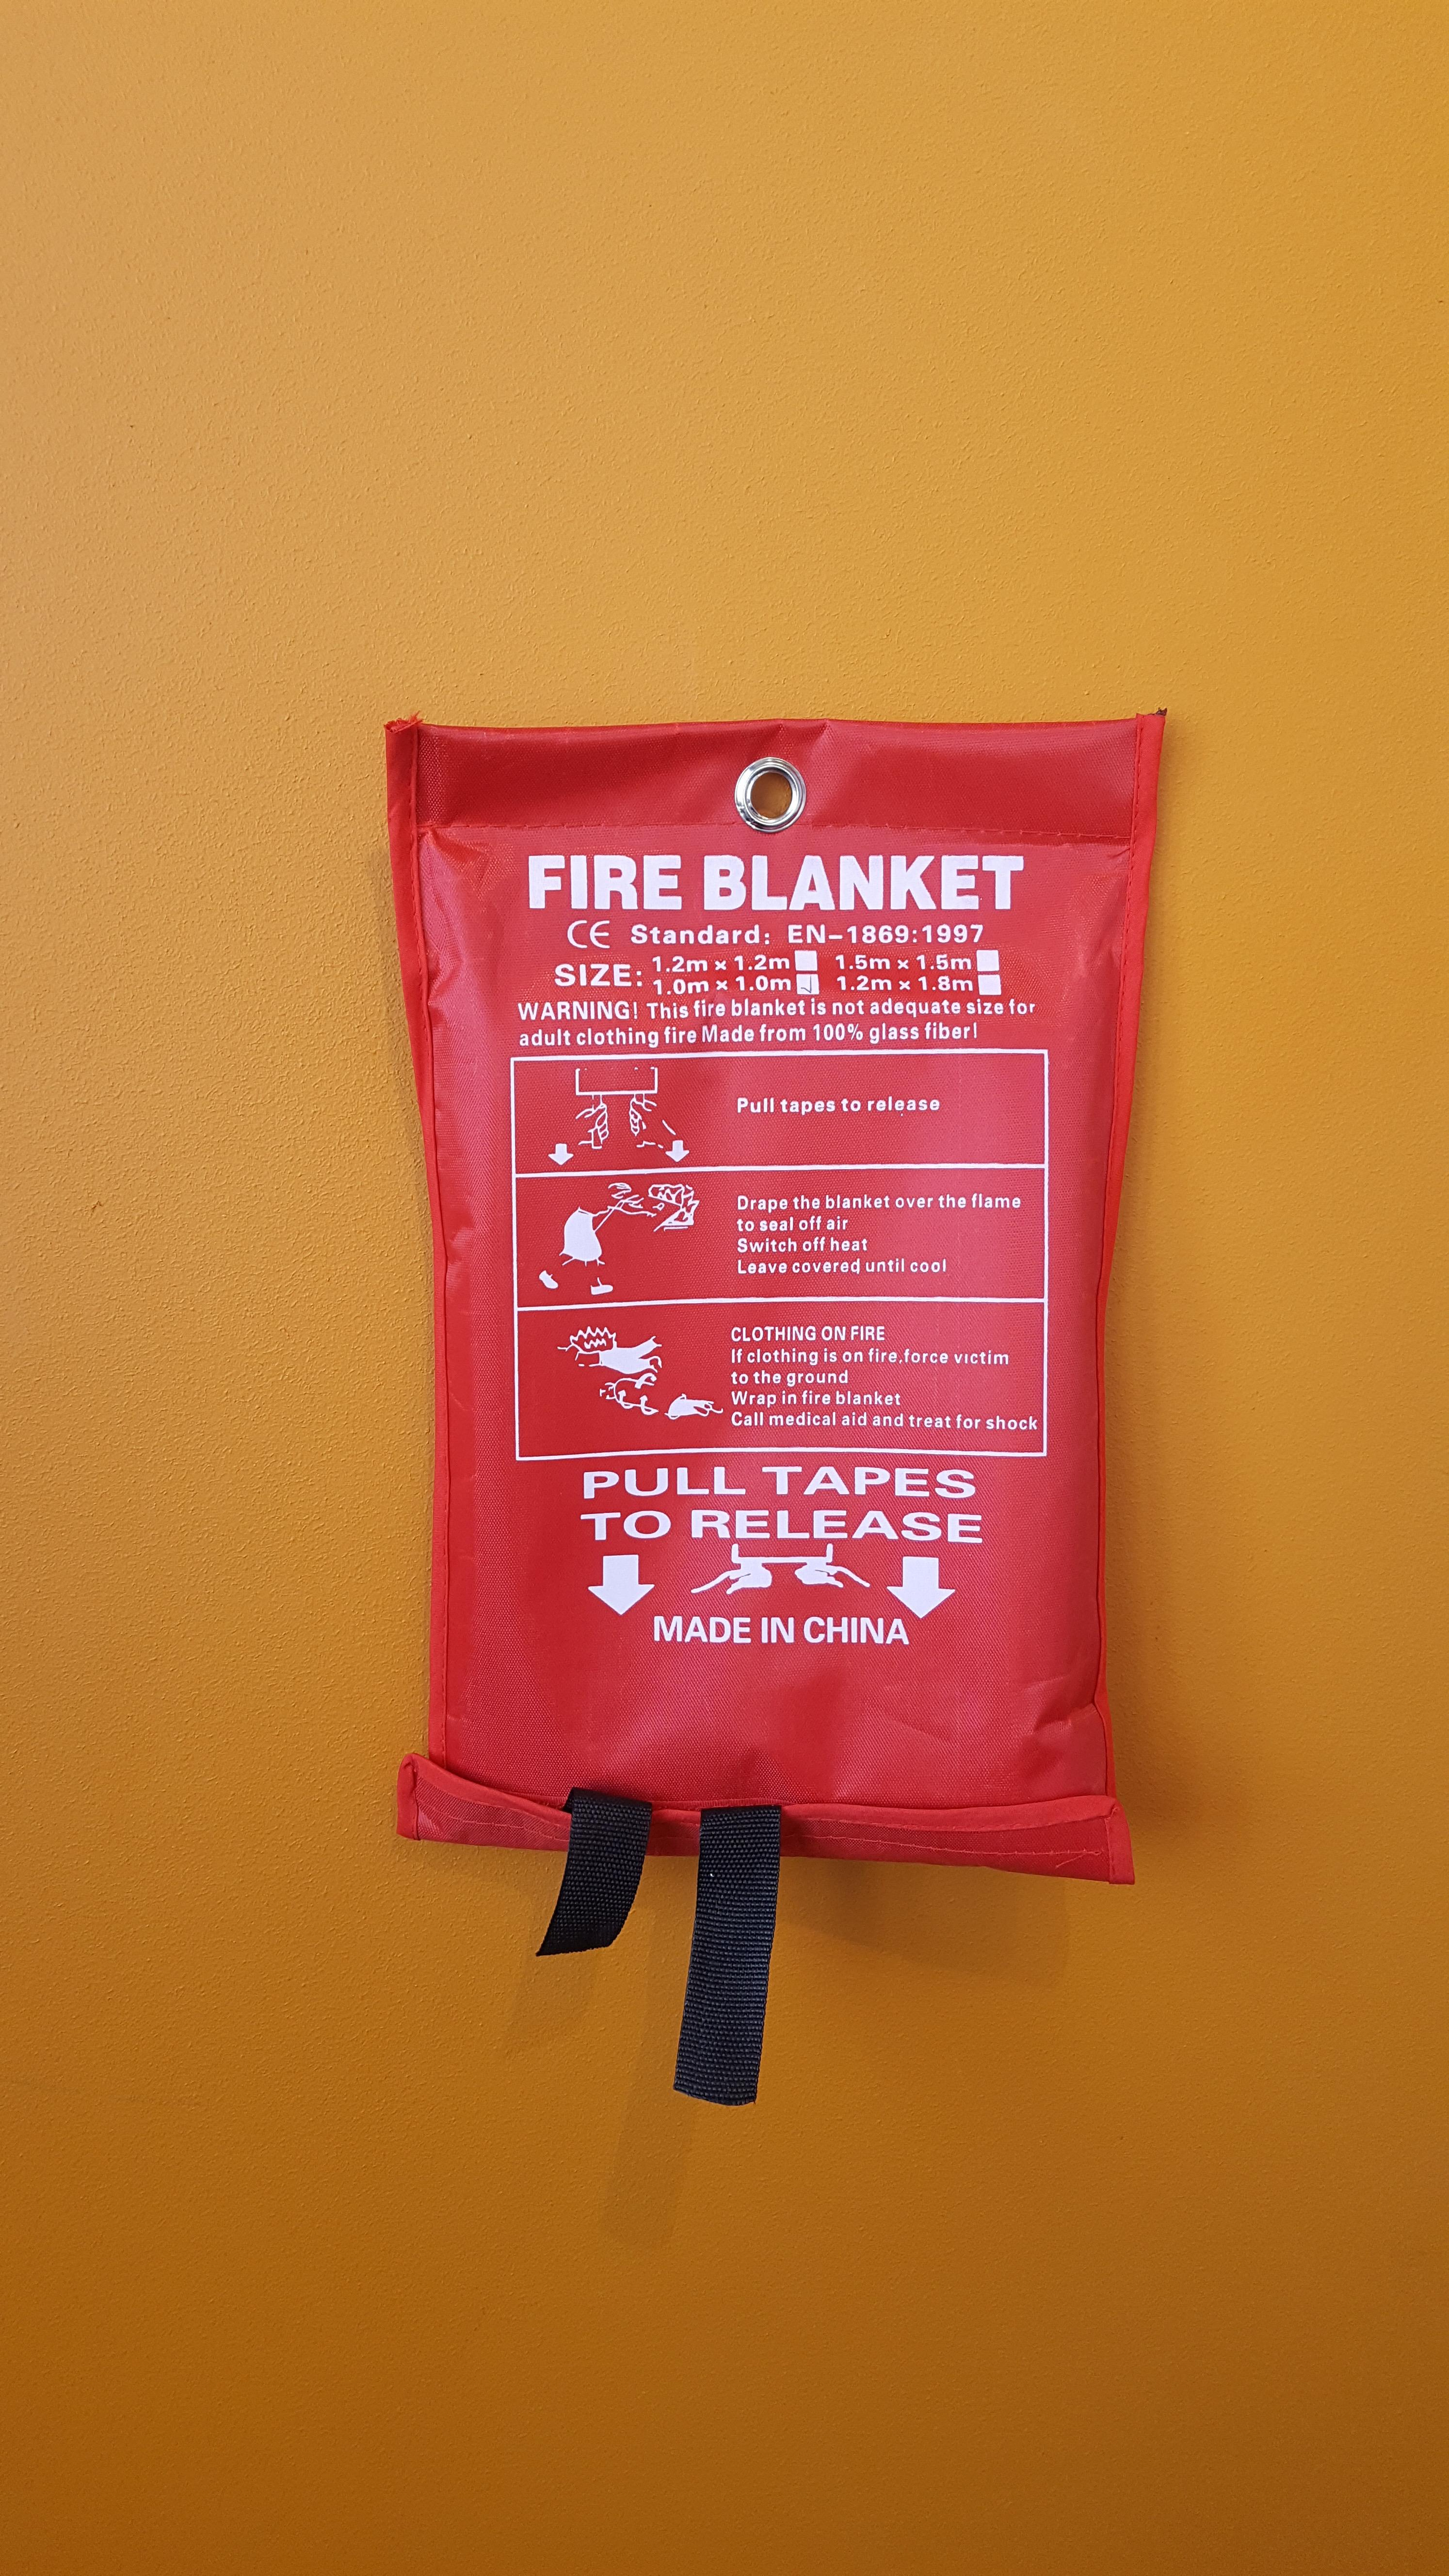blanket: (386, 708, 1168, 1884)
